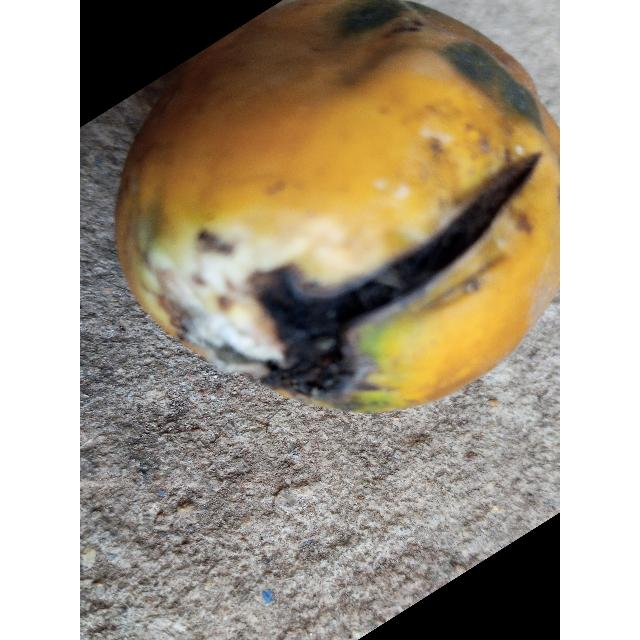damaged: (116, 0, 560, 412)
